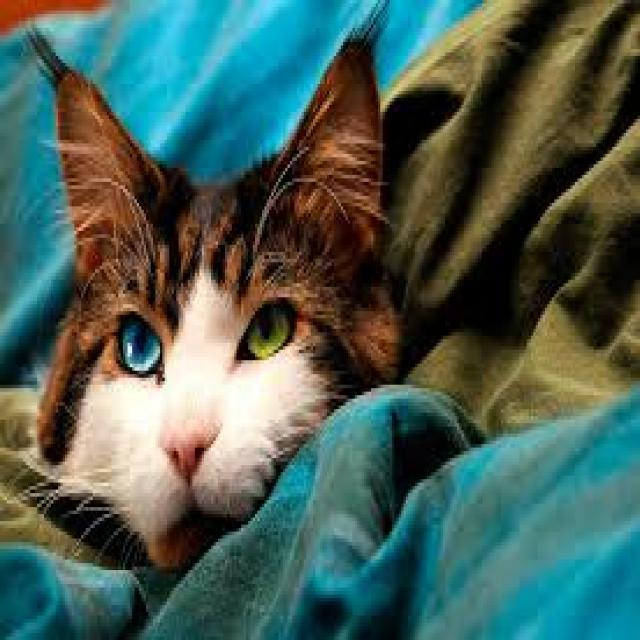Cat: (15, 14, 407, 572)
